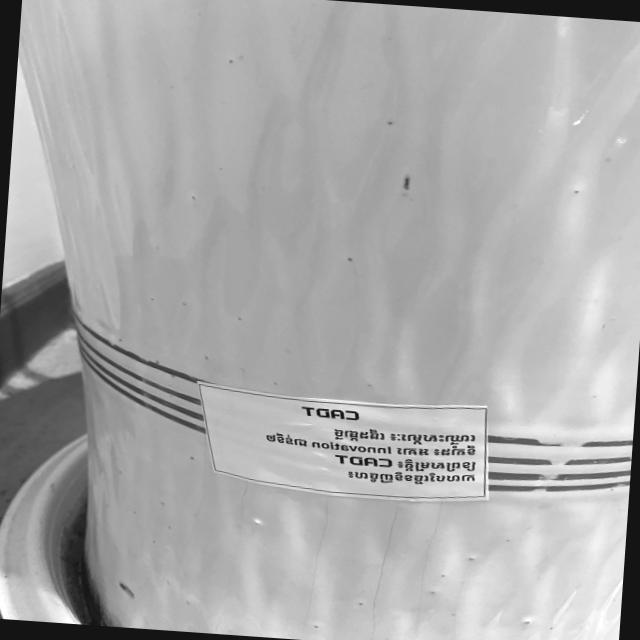1: (314, 424, 480, 446), (391, 440, 479, 459)
Yolov11kh: (342, 466, 477, 485), (393, 458, 481, 472), (262, 430, 310, 450)
